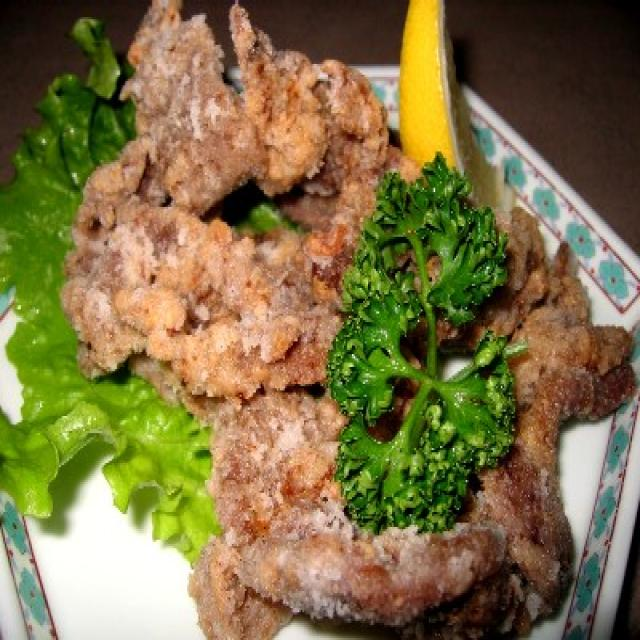鸡肉料理 含炸鸡: (54, 0, 626, 640)
